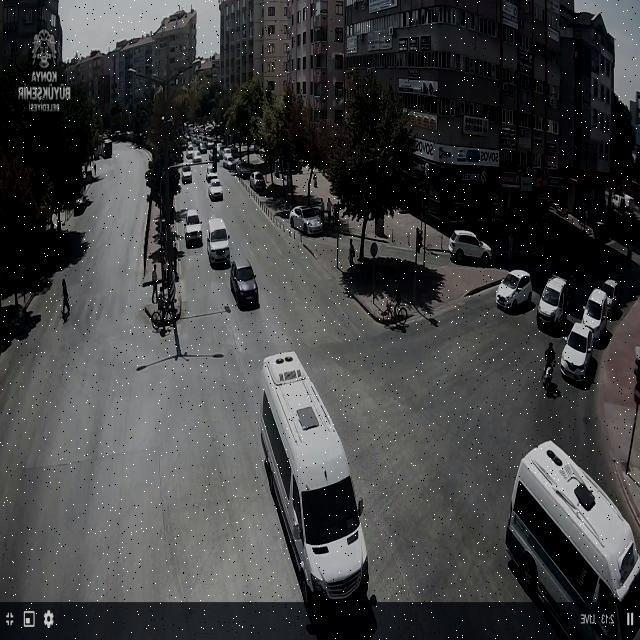Car: (559, 322, 595, 384), (536, 278, 568, 330), (581, 288, 610, 343), (496, 269, 532, 311), (448, 230, 493, 263), (231, 259, 259, 307), (289, 206, 326, 236), (183, 208, 203, 247), (208, 180, 224, 201), (249, 172, 265, 190), (180, 164, 192, 183), (222, 157, 236, 169)
Cycle: (381, 307, 408, 328), (151, 311, 172, 331)
Van: (259, 349, 373, 602), (502, 436, 640, 600), (207, 218, 231, 267)
